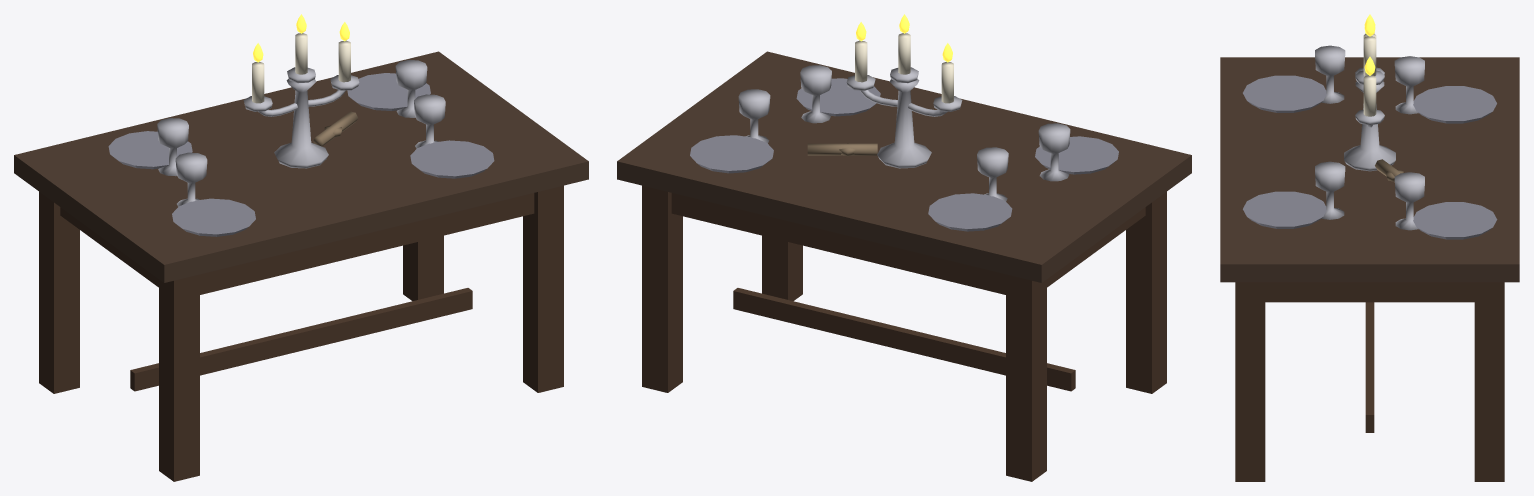
File: table_set.glb
The picture shows the model from 3 angles, left to right: view 1: azimuth 30°, elevation 25°; view 2: azimuth 150°, elevation 25°; view 3: azimuth 270°, elevation 25°; orthographic projection.
Visible parts, largest first — view 1: table_set; view 2: table_set; view 3: table_set.
Boxes of the visible parts, x1,y1,x2,y2 form: table_set: (14, 14, 588, 481); table_set: (617, 14, 1191, 481); table_set: (1220, 14, 1519, 481).
Bounding box in the file's own units: 0.98 × 0.818 × 0.6.
